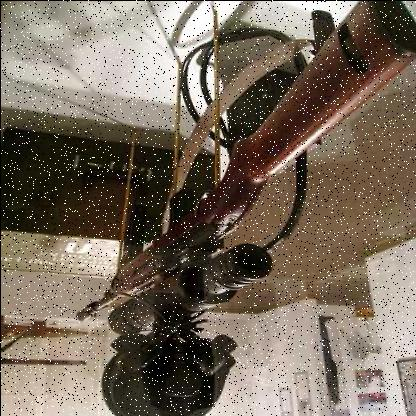rifle: (33, 1, 416, 386)
